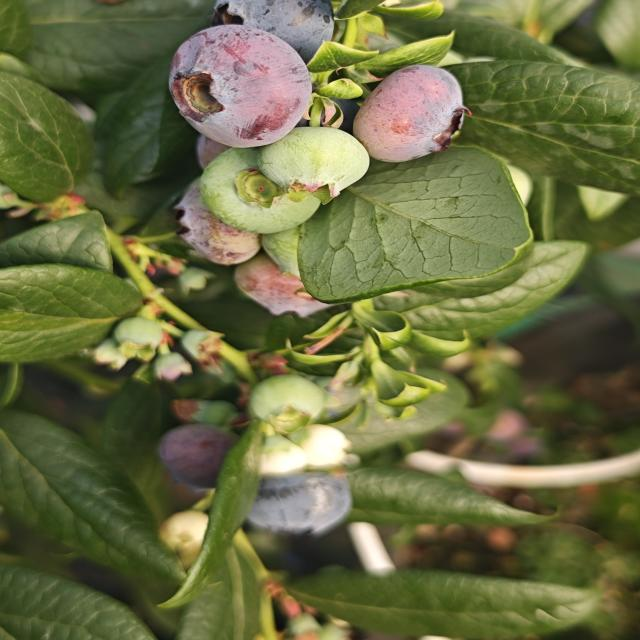ripe: (168, 0, 338, 149), (252, 476, 356, 540)
